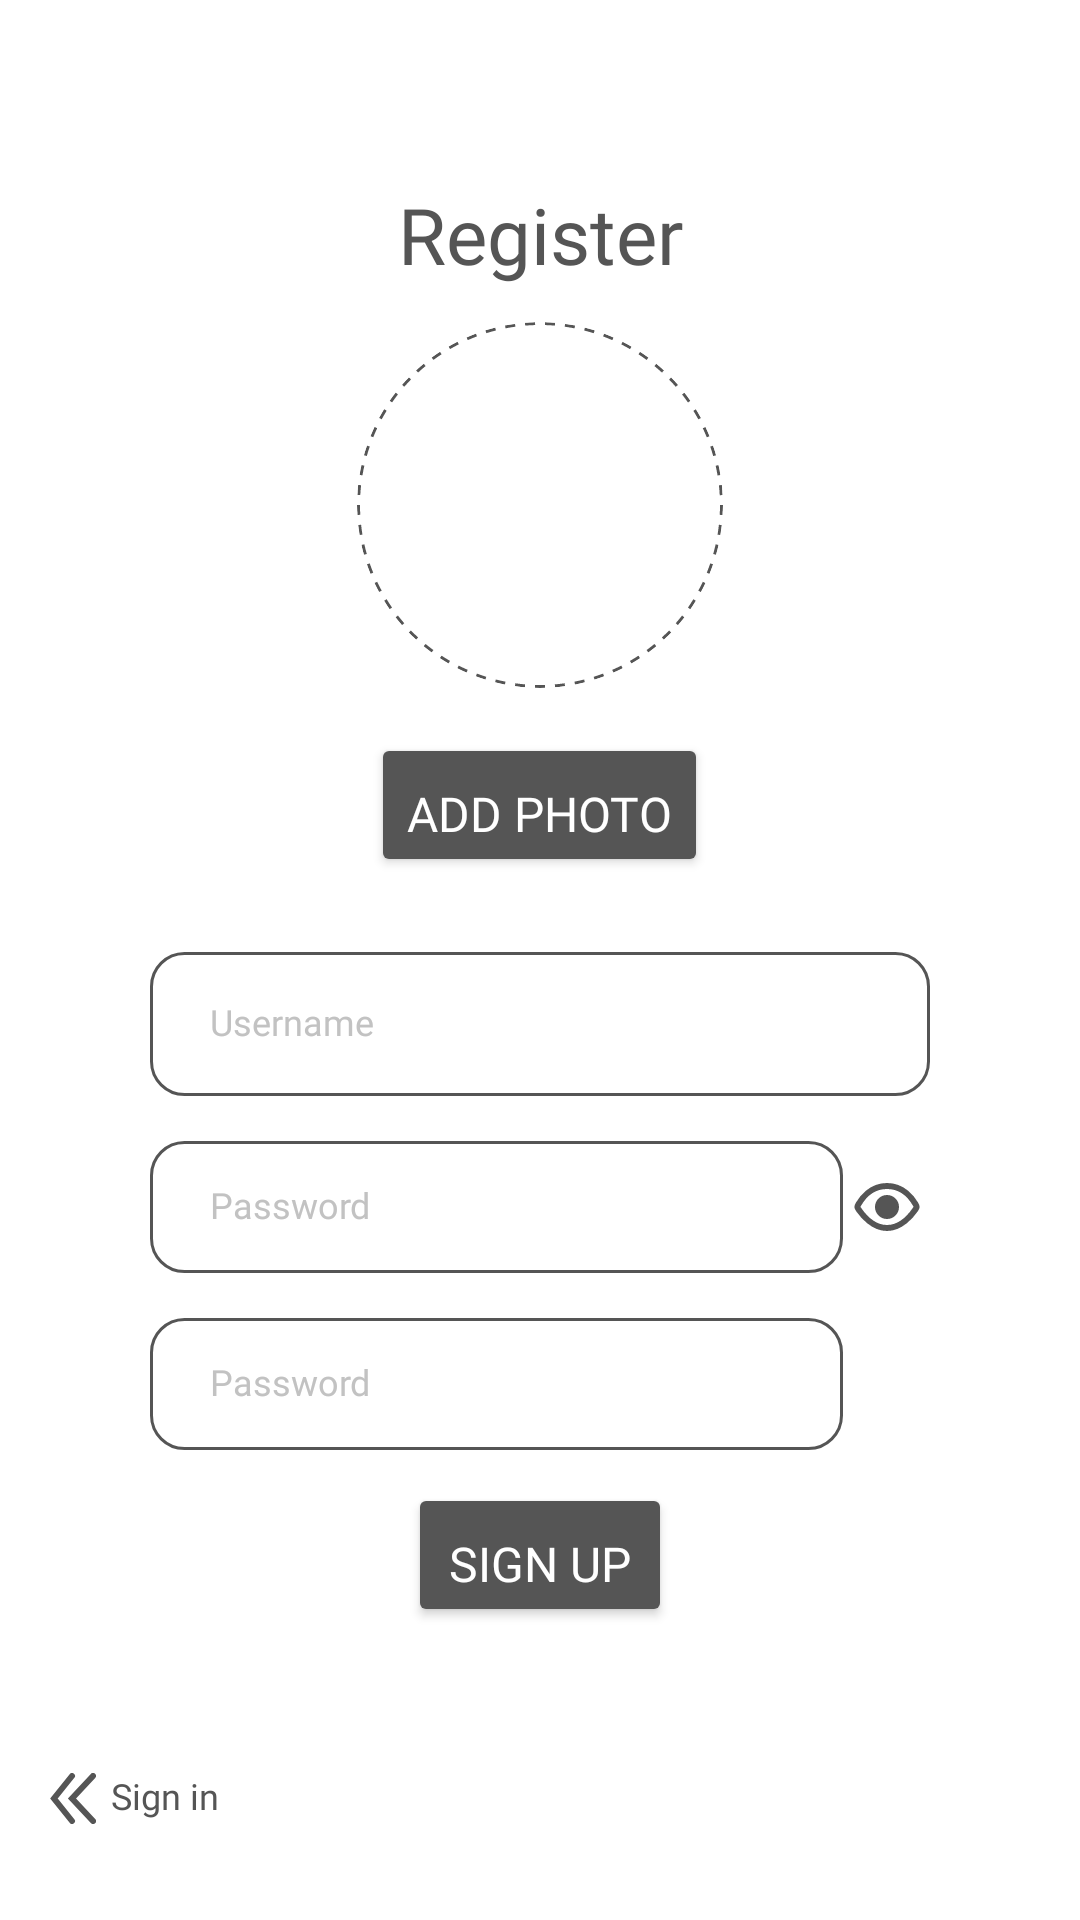

Icon click points for this 1080×1920 phone screenshot, format point (x, y):
hint isoff: point (887, 1207)
Navigation arrow to other fragments: point (73, 1798)
